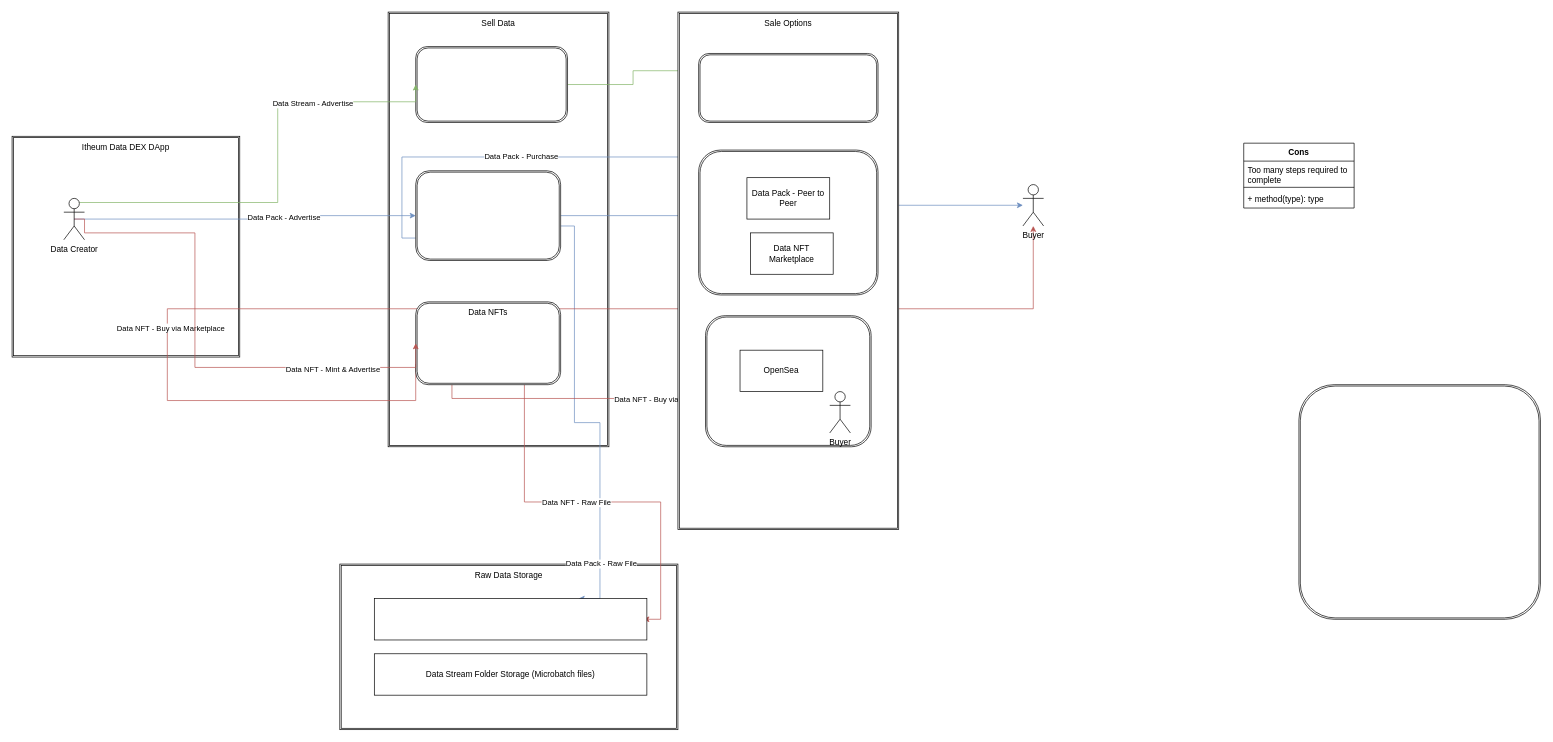
Some shapes in this 1553 by 742 pixel diagram are drawn without their labels. Here are the shapes that lost their labels. From the top down, the box of each, then its label:
(415, 46, 568, 122): Data Streams
(698, 53, 878, 122): Data Coalitions
(415, 170, 561, 260): Data Pack (Peer to Peer Trades)
(698, 149, 878, 295): Data DEX - Advertised
(705, 315, 871, 447): Secondary NFT Marketplaces
(1298, 384, 1540, 619): Data Vault
(374, 598, 647, 640): Data Pack / Data NFT File Storage
